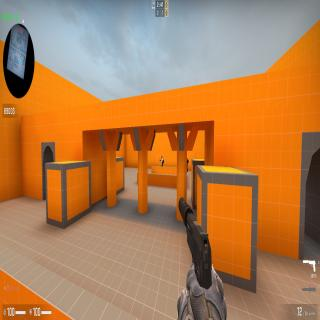T-Body: (160, 156, 163, 166), (187, 157, 188, 172)
T-Head: (162, 156, 162, 159)
